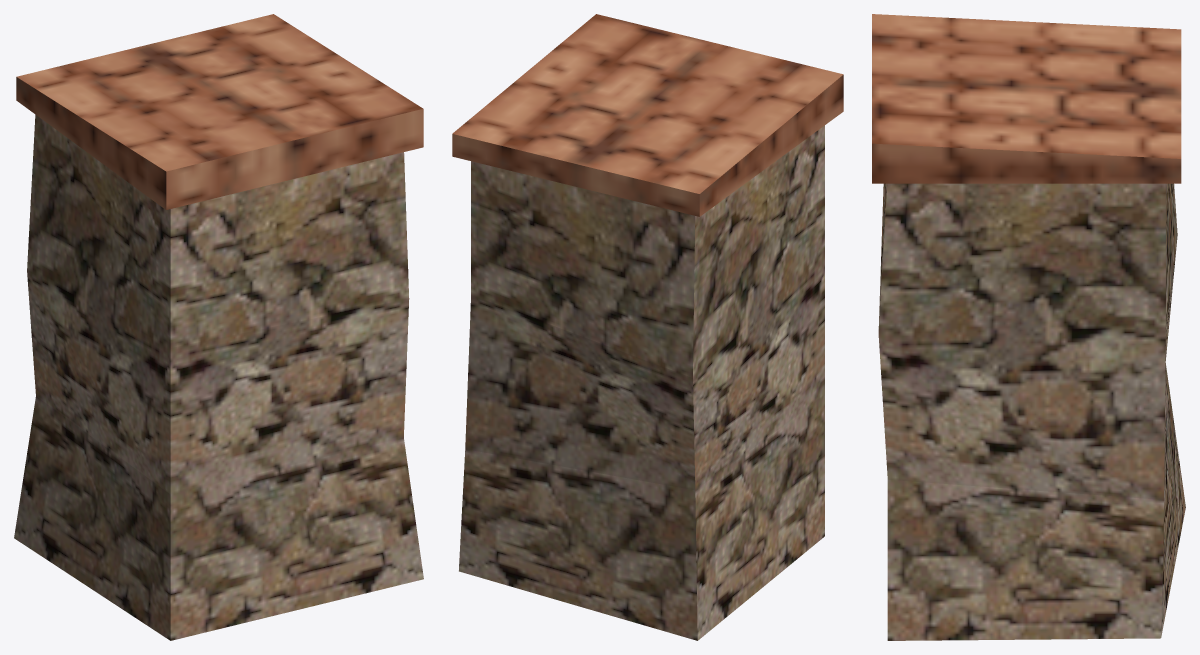
Rendered from drystone_column_tiles.fbx.
3 renders of one model, left to right at view 1: azimuth 30°, elevation 25°; view 2: azimuth 150°, elevation 25°; view 3: azimuth 270°, elevation 25°, orthographic. The views are drawn at different scales.
Parts seen in each view (by area): view 1: drystone_column_tiles; view 2: drystone_column_tiles; view 3: drystone_column_tiles.
Boxes of the visible parts, box(x1,y1,x2,y2) form: drystone_column_tiles: box(14, 14, 423, 640); drystone_column_tiles: box(452, 14, 843, 640); drystone_column_tiles: box(872, 14, 1185, 640).
Size of the model in its own units: 56.91 by 97.91 by 56.46.
Materials: 2 (2 with a texture image).
